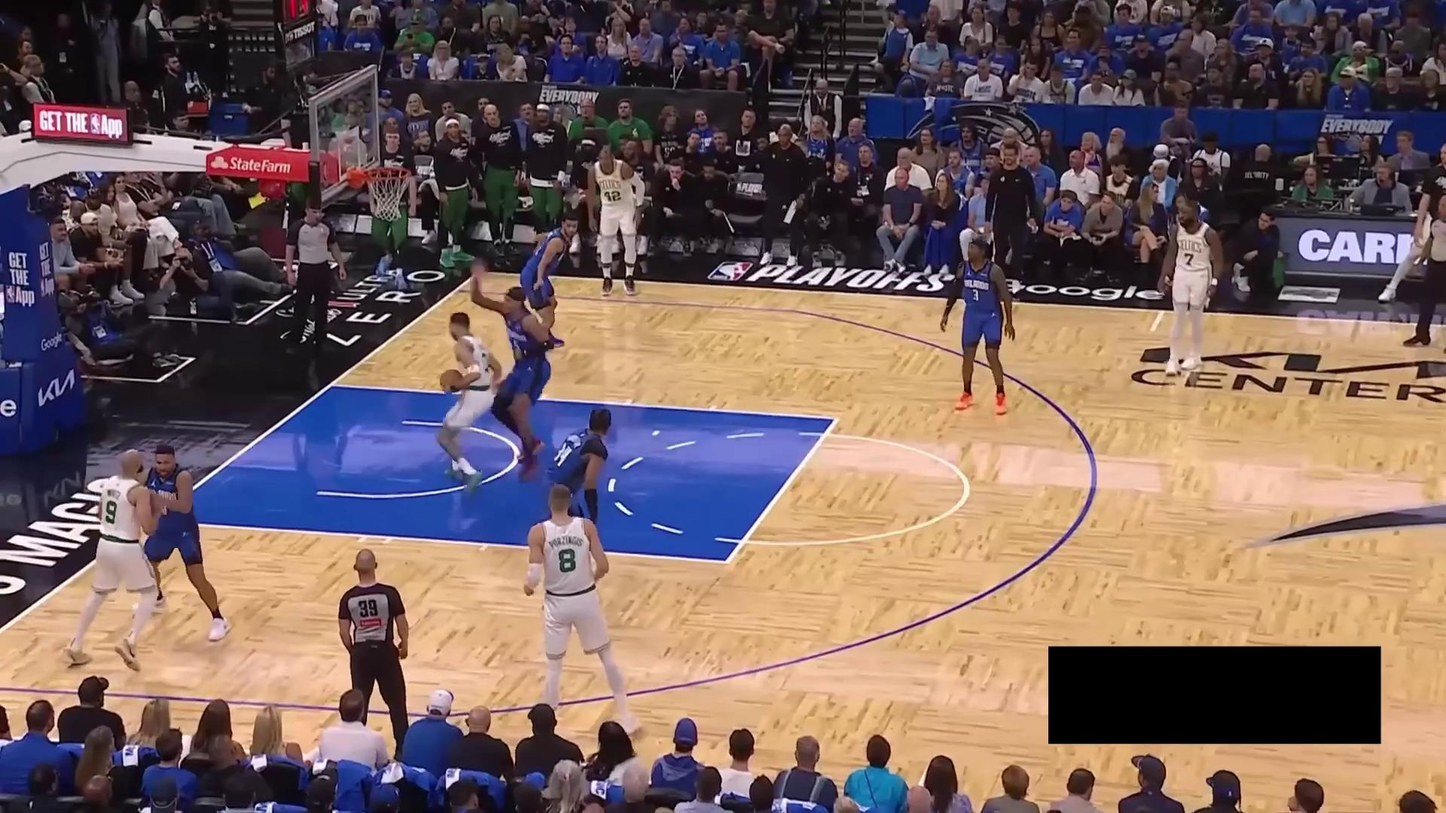ball: (440, 369, 464, 394)
number: (558, 547, 577, 573), (102, 500, 120, 527), (604, 190, 622, 202), (1184, 252, 1195, 266), (972, 289, 979, 301)
player: (521, 479, 646, 738), (57, 447, 167, 674), (143, 440, 233, 647), (934, 237, 1021, 419), (1153, 192, 1225, 376), (581, 137, 649, 300), (537, 402, 617, 535), (515, 206, 581, 352)
player-in-possession: (430, 305, 503, 496)
player-shot-block: (467, 259, 557, 485)
referee: (336, 543, 425, 757), (280, 200, 347, 353), (1400, 189, 1446, 354)
rim: (367, 165, 411, 183)
